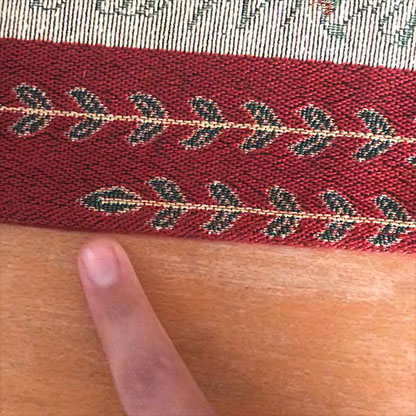fingertip: (60, 229, 147, 302)
